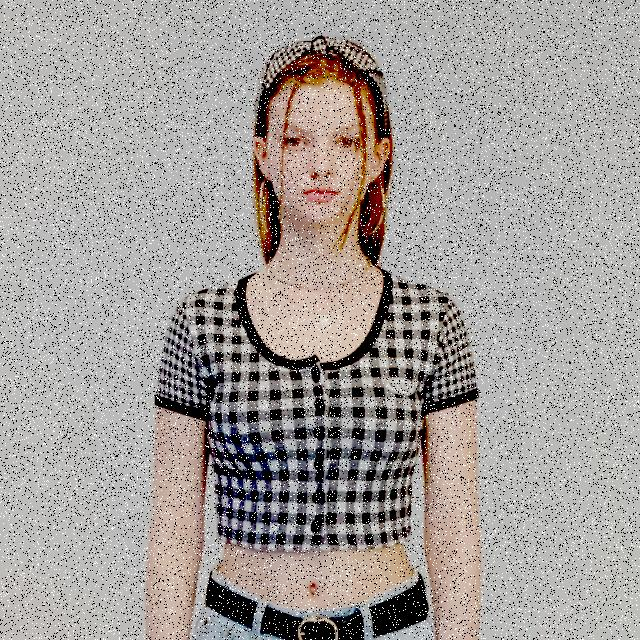Blouse_deep: (155, 274, 480, 554)
